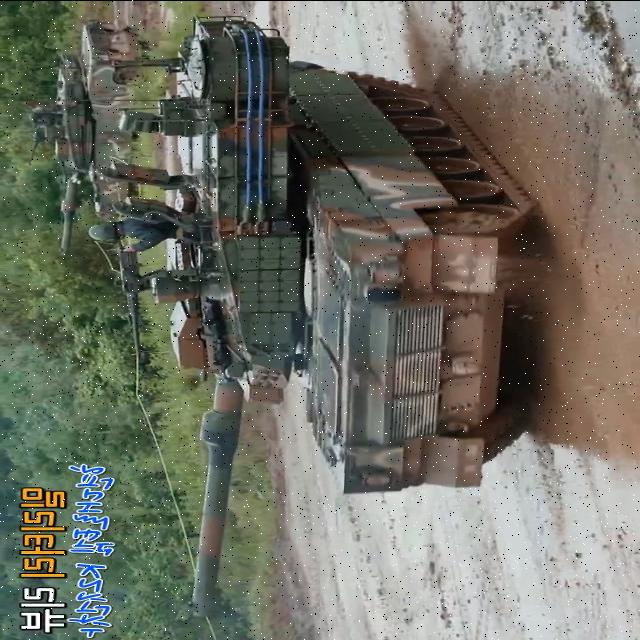korea tank: (87, 15, 534, 617)
